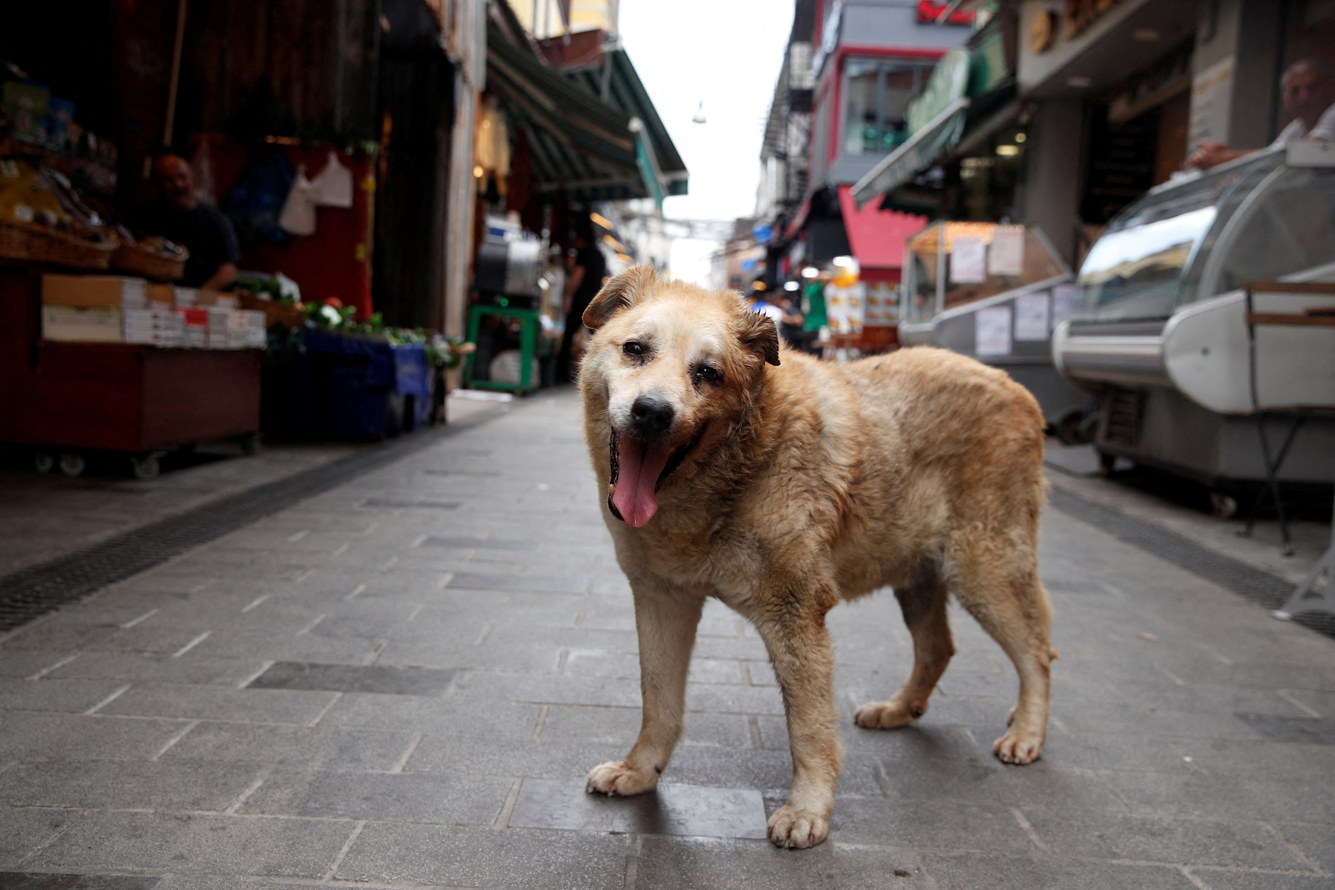Dog: (513, 225, 1082, 851)
